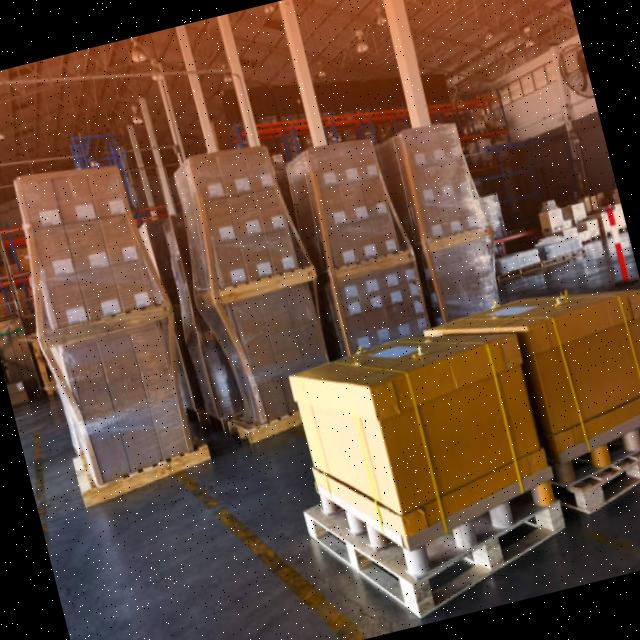Wooden-Pallets: (299, 499, 571, 627), (68, 437, 214, 518), (567, 442, 640, 529)
